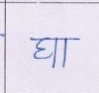aa_matra: (63, 40, 67, 69)
